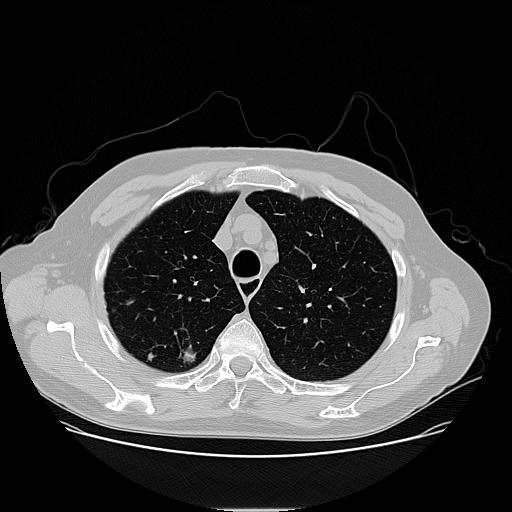nodule: (146, 351, 157, 362)
